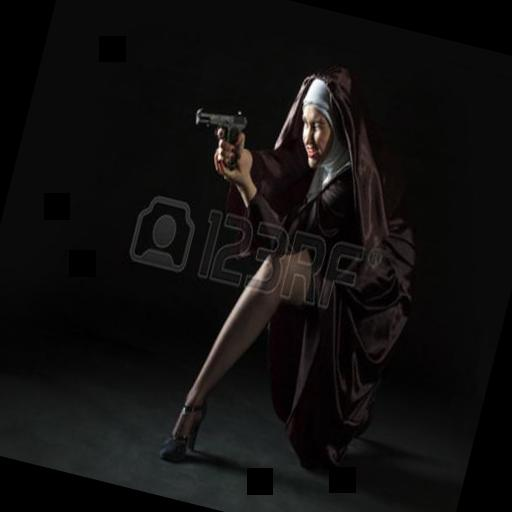Handgun: (182, 96, 252, 174)
